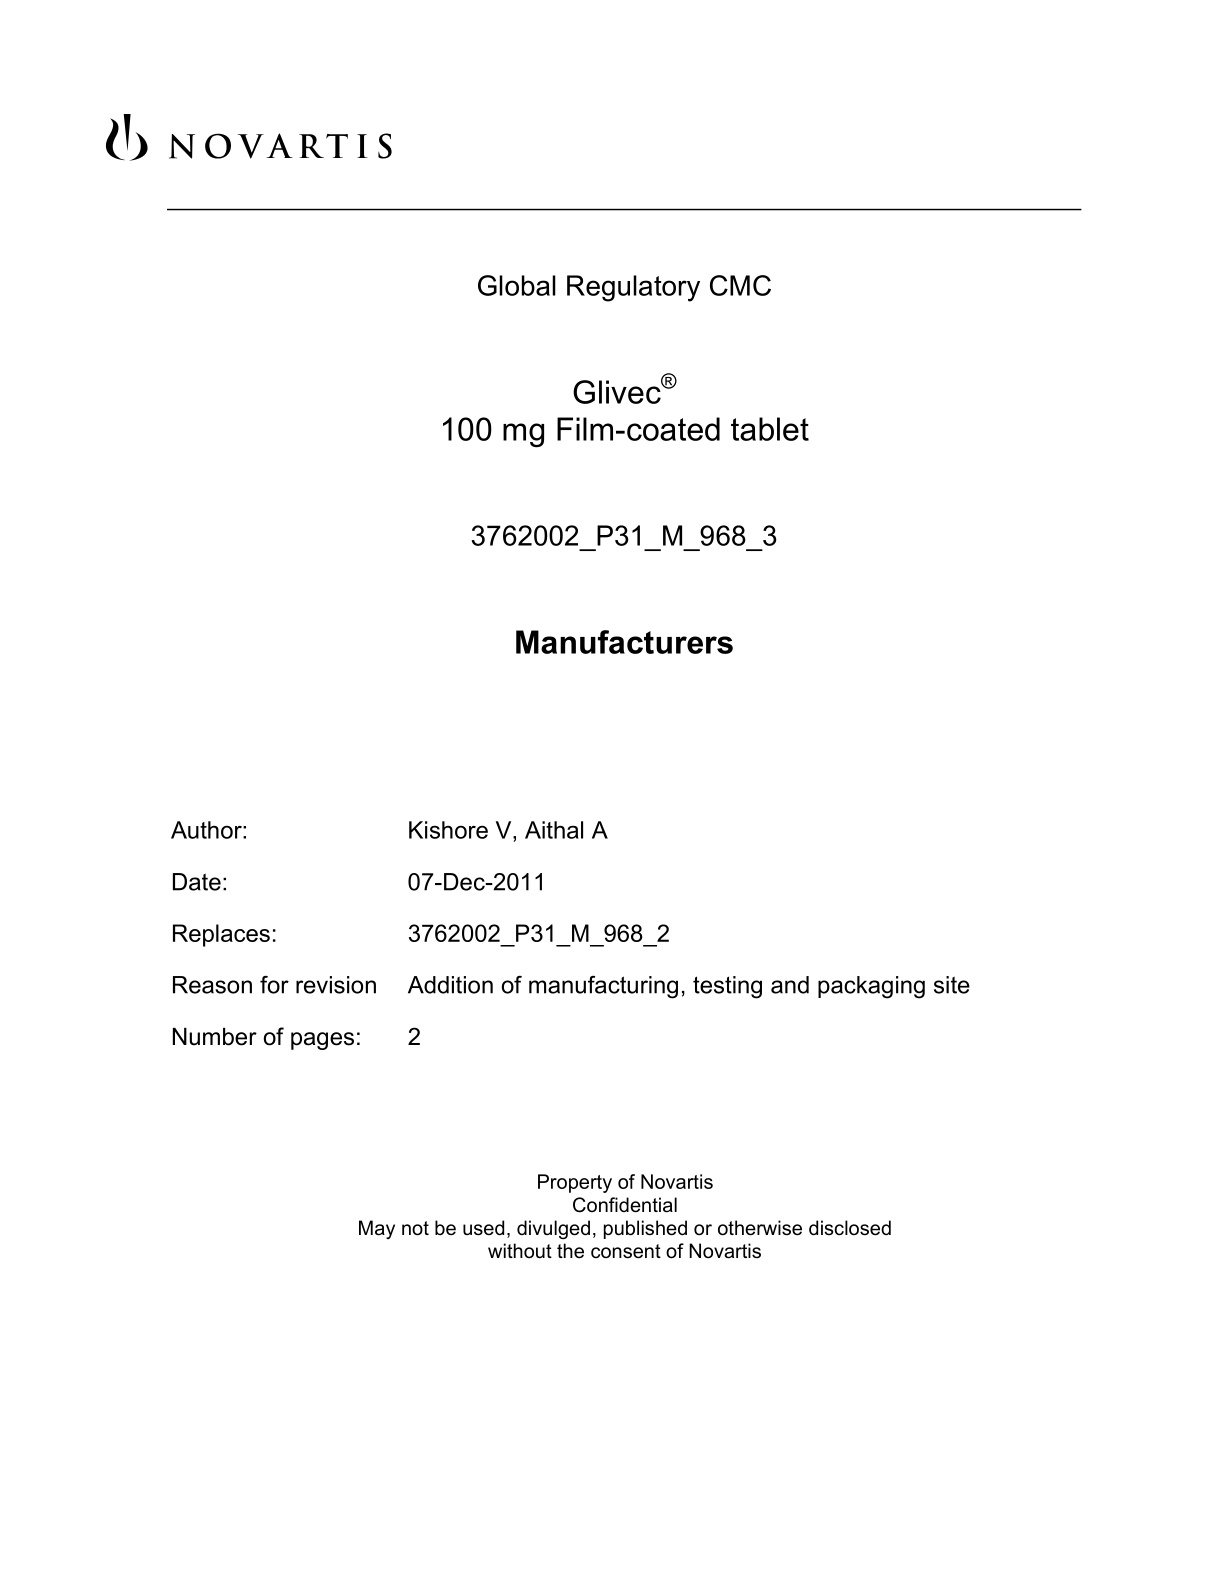nolines: (168, 814, 973, 1053)
